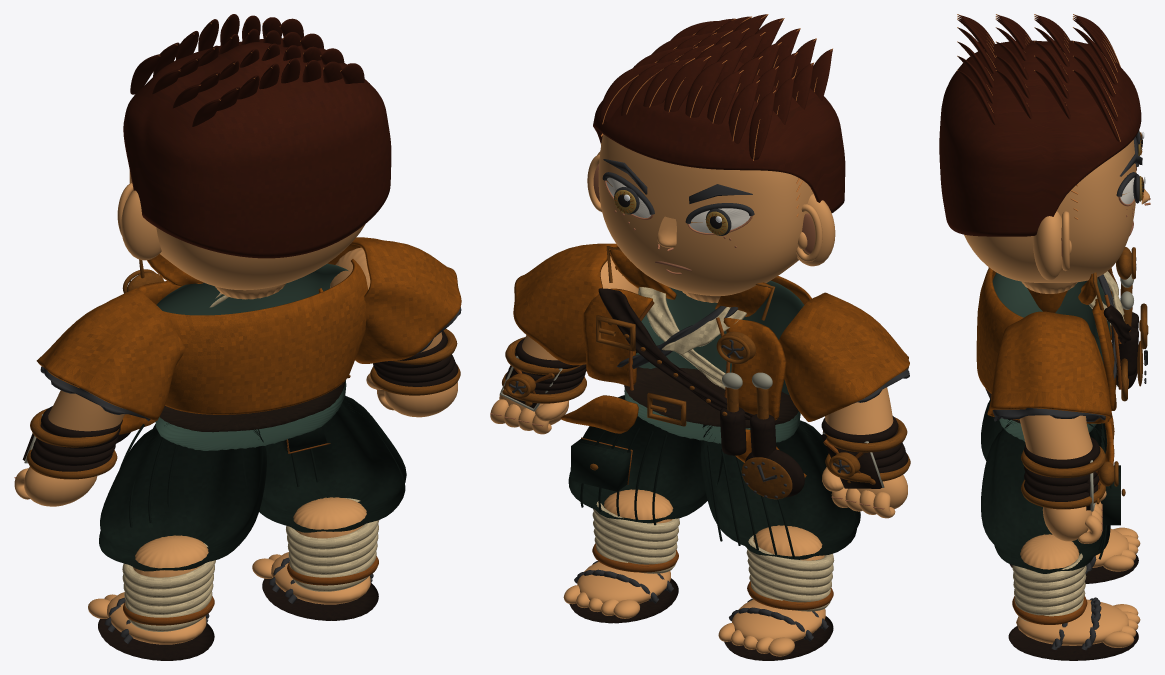
File: banji.glb
3 views of the same model, side by side, from view 1: azimuth 30°, elevation 25°; view 2: azimuth 150°, elevation 25°; view 3: azimuth 270°, elevation 25° (orthographic). The views are drawn at different scales.
Parts seen in each view (by area): view 1: Banji__Fitted_scalp, Banji__Outer_jacket_back, Banji__Trousers_-1, Banji__Kimono_sleeve_-1, Banji__Trousers_1, Banji__Kimono_sleeve_1, Banji__Under_kimono, Banji__Face_sculpt_cage, Banji__Sash_base, Banji__Calf_-1, Banji__Calf_1, Banji__Sandal_sole_-1 (+28 smaller); view 2: Banji__Face_sculpt_cage, Banji__Fitted_scalp, Banji__Kimono_sleeve_-1, Banji__Trousers_-1, Banji__Kimono_sleeve_1, Banji__Trousers_1, Banji__Under_kimono, Banji__Sash_base, Banji__Open_jacket_front_-1, Banji__Open_jacket_front_1, Banji__Diagonal_tool_harness, Banji__Thigh_tool_satchel_body (+52 smaller); view 3: Banji__Fitted_scalp, Banji__Kimono_sleeve_1, Banji__Face_sculpt_cage, Banji__Trousers_1, Banji__Under_kimono, Banji__Arm_anatomy_1, Banji__Outer_jacket_back, Banji__Foot_1, Banji__Sandal_sole_1, Banji__Calf_1, Banji__Ear_1, Banji__Palm_1 (+44 smaller).
Boxes of the visible parts, box(x1,y1,x2,y2) form: Banji__Fitted_scalp: box(123, 38, 391, 258); Banji__Outer_jacket_back: box(163, 259, 367, 414); Banji__Trousers_-1: box(99, 423, 266, 571); Banji__Kimono_sleeve_-1: box(36, 288, 185, 420); Banji__Trousers_1: box(241, 395, 406, 532); Banji__Kimono_sleeve_1: box(318, 237, 461, 363); Banji__Under_kimono: box(155, 263, 348, 450); Banji__Face_sculpt_cage: box(129, 170, 365, 290); Banji__Sash_base: box(160, 381, 345, 432); Banji__Calf_-1: box(133, 535, 208, 577); Banji__Calf_1: box(293, 497, 366, 538); Banji__Sandal_sole_-1: box(98, 619, 214, 660); Banji__Face_sculpt_cage: box(598, 134, 813, 295); Banji__Fitted_scalp: box(593, 54, 845, 212); Banji__Kimono_sleeve_-1: box(779, 292, 909, 421); Banji__Trousers_-1: box(700, 418, 860, 559); Banji__Kimono_sleeve_1: box(513, 243, 619, 365); Banji__Trousers_1: box(568, 395, 724, 523); Banji__Under_kimono: box(622, 275, 804, 443); Banji__Sash_base: box(624, 345, 798, 428); Banji__Open_jacket_front_-1: box(723, 318, 786, 420); Banji__Open_jacket_front_1: box(583, 288, 652, 386); Banji__Diagonal_tool_harness: box(598, 288, 753, 419); Banji__Thigh_tool_satchel_body: box(570, 438, 631, 491); Banji__Fitted_scalp: box(939, 40, 1141, 236); Banji__Kimono_sleeve_1: box(987, 311, 1111, 423); Banji__Face_sculpt_cage: box(964, 140, 1136, 282); Banji__Trousers_1: box(981, 419, 1110, 573); Banji__Under_kimono: box(992, 272, 1110, 441); Banji__Arm_anatomy_1: box(1019, 415, 1092, 459); Banji__Outer_jacket_back: box(976, 267, 1023, 393); Banji__Foot_1: box(1016, 599, 1128, 645); Banji__Sandal_sole_1: box(1008, 626, 1138, 660); Banji__Calf_1: box(1020, 534, 1079, 570); Banji__Ear_1: box(1033, 211, 1061, 280); Banji__Palm_1: box(1042, 506, 1092, 541).
Size of the model in its own units: 1.97 by 2.63 by 0.8799.
Materials: 19 (8 with a texture image).
